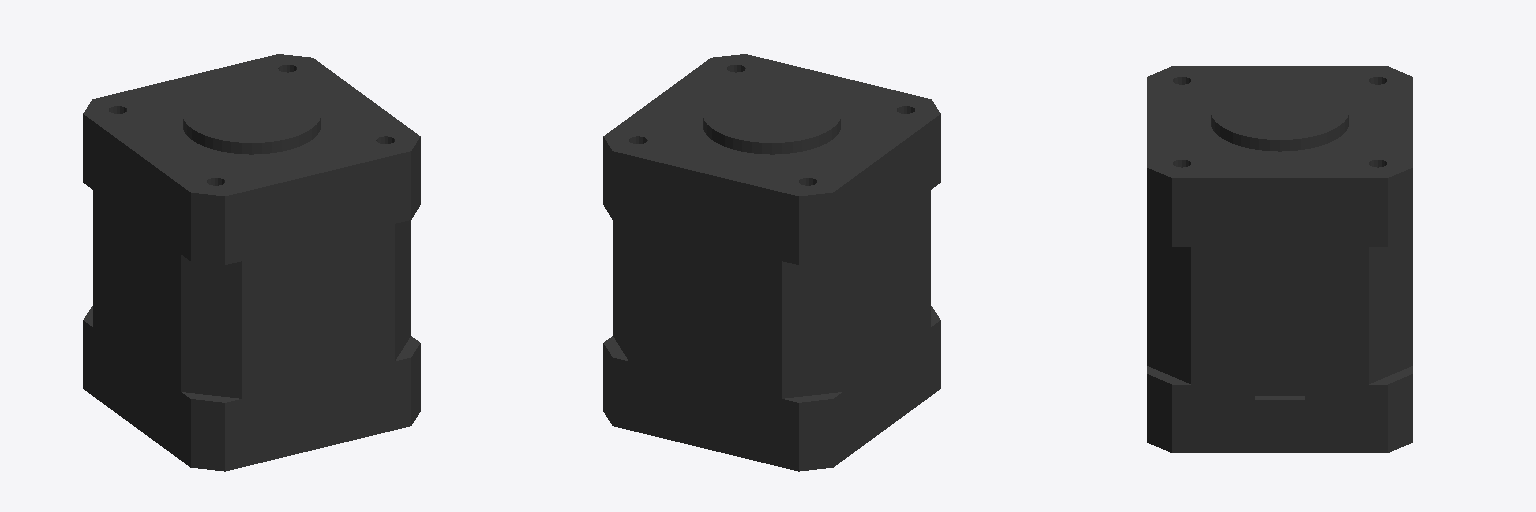
The model's file is MotorBody.obj.
The picture shows the model from 3 angles: view 1: azimuth 30°, elevation 25°; view 2: azimuth 150°, elevation 25°; view 3: azimuth 270°, elevation 25°; orthographic projection.
Visible parts, largest first — view 1: MotorBody; view 2: MotorBody; view 3: MotorBody.
Part boxes in pixels (bbox=[...]): MotorBody: bbox=[83, 54, 420, 471]; MotorBody: bbox=[603, 54, 940, 471]; MotorBody: bbox=[1147, 66, 1412, 452].
Bounding box in the file's own units: 4.35 × 5 × 4.2.